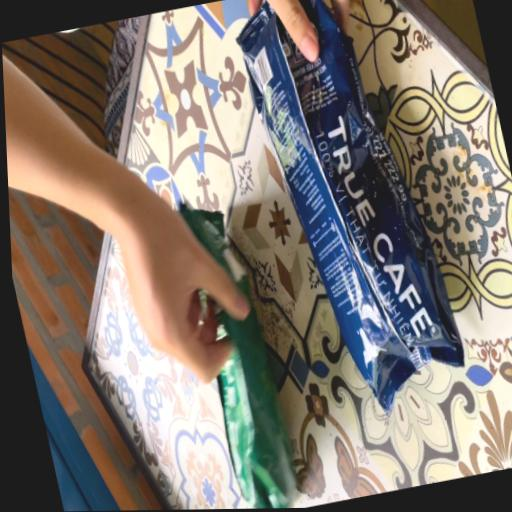cafe_hat: (236, 0, 463, 412)
cafe_xay: (206, 298, 297, 509), (179, 202, 249, 293)
